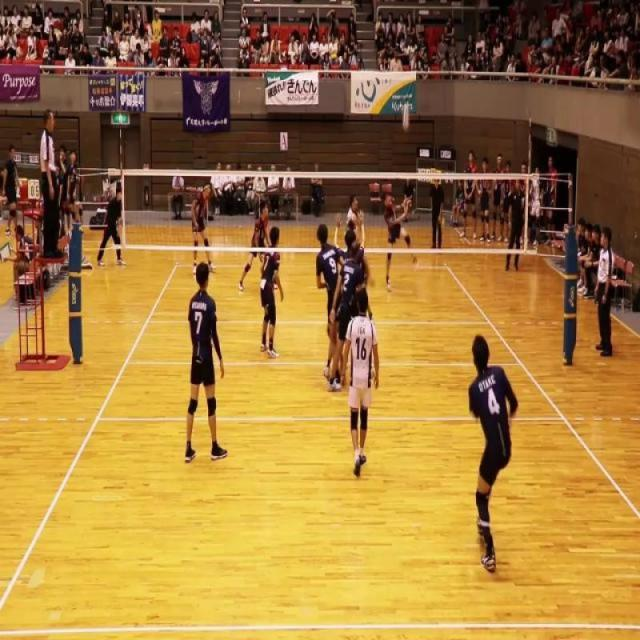volleyball: (402, 105, 410, 134)
